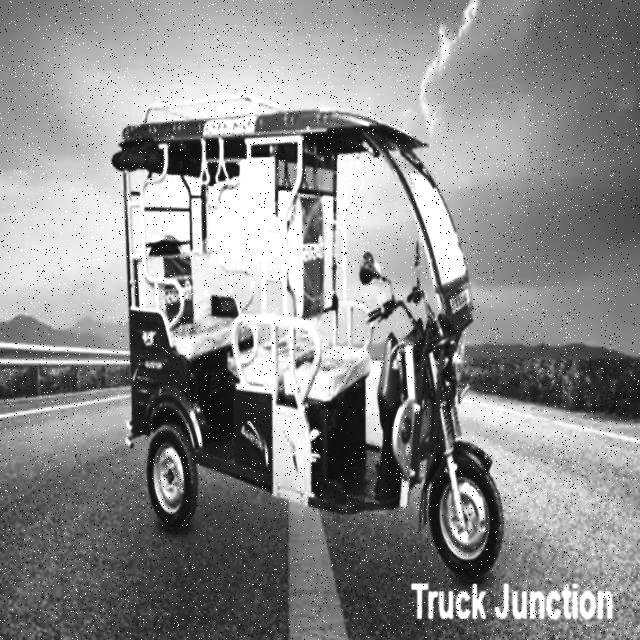Toto: (116, 94, 502, 575)
